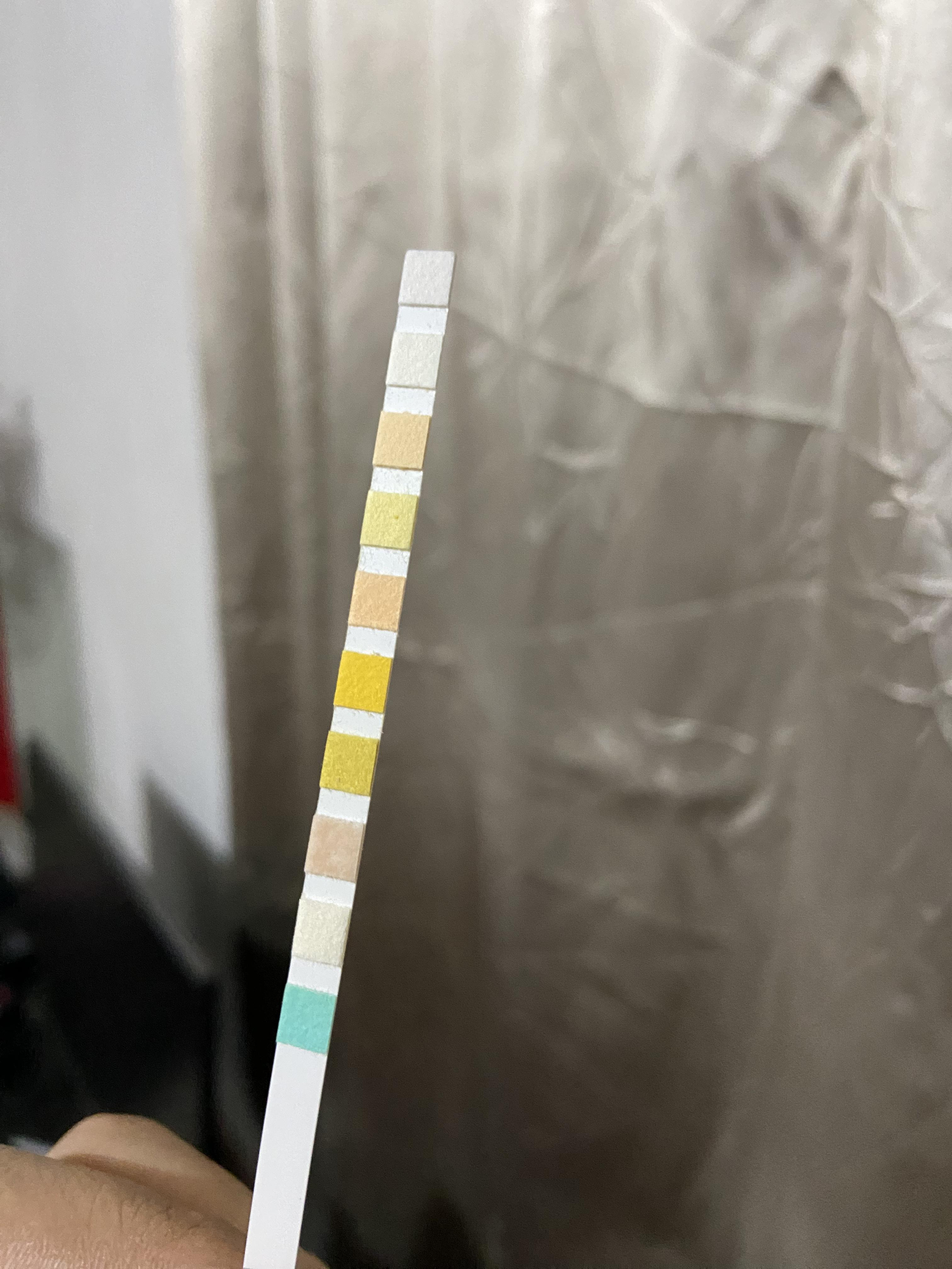Bilirubin: (298, 908, 345, 952)
Blood: (339, 663, 384, 706)
Glucose: (284, 993, 328, 1045)
Ketone: (311, 826, 358, 872)
Leukocytes: (404, 260, 449, 300)
Nitrite: (392, 338, 437, 385)
Protein: (366, 499, 409, 545)
SpGravity: (325, 744, 371, 788)
Urobilinogen: (379, 420, 423, 466)
pH: (354, 580, 399, 625)
strip: (243, 251, 456, 1268)
